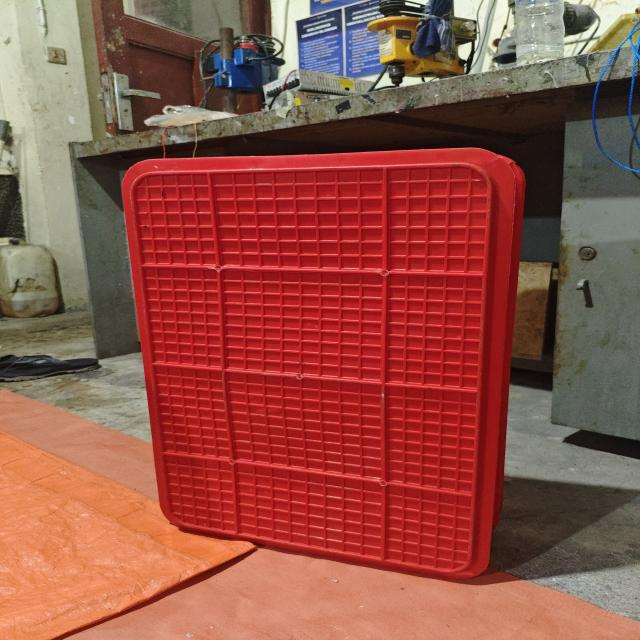red plastic box: (122, 147, 528, 579)
